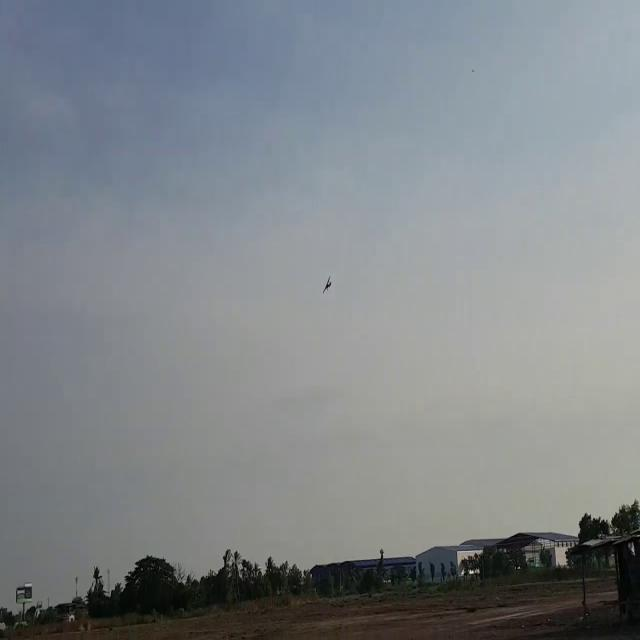iha: (314, 277, 327, 294)
